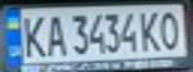3: (66, 11, 90, 55), (103, 10, 124, 54)
4: (118, 8, 139, 53), (87, 10, 106, 54)
A: (42, 11, 69, 58)
K: (18, 11, 48, 60), (136, 8, 163, 52)
O: (157, 8, 184, 51)
